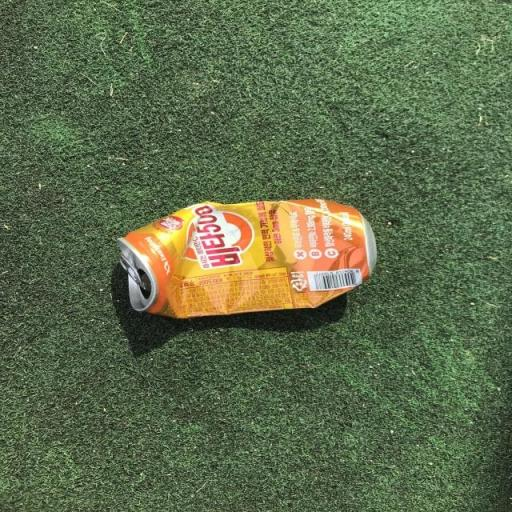metal: (96, 179, 388, 349)
